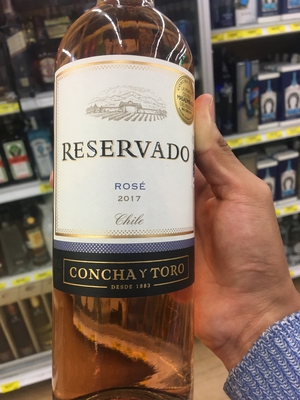reservado rose: (47, 10, 196, 400)
